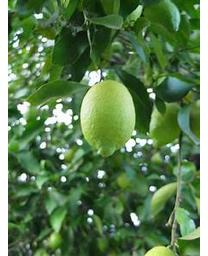lemon: (81, 81, 135, 154)
